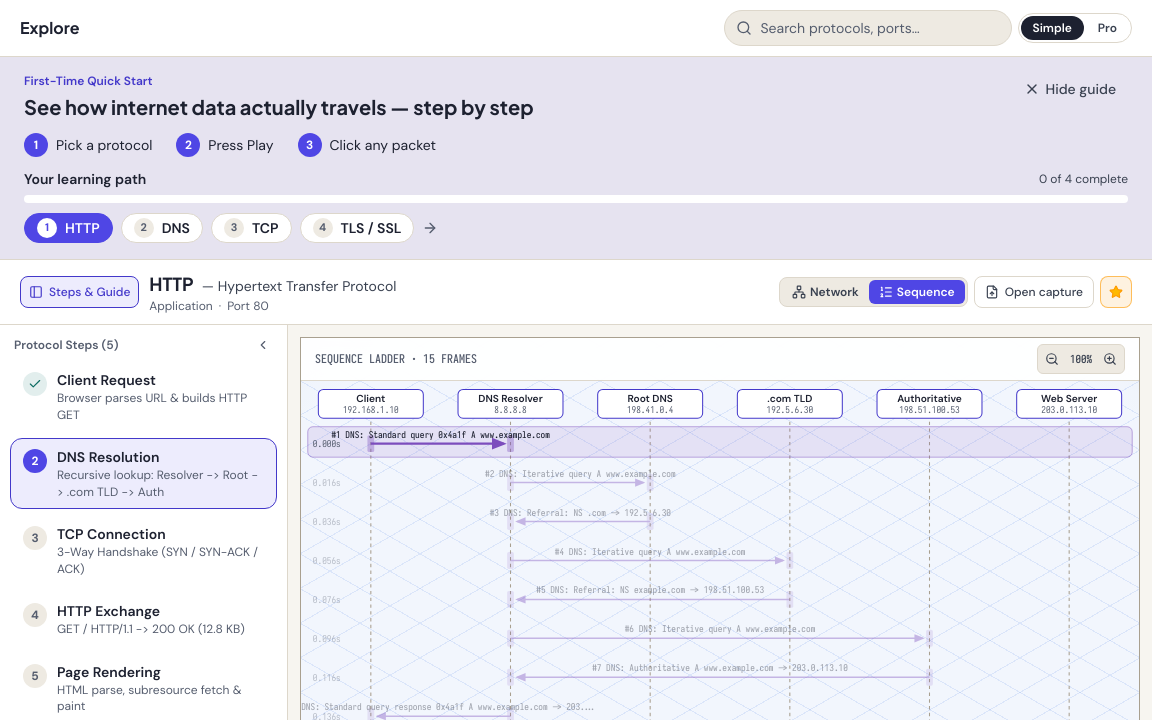
Test: UI Components Integration (SimCanvas, SimulatorWorkspace, TerminalEmulator, ExploreWorkspace, Header) › supports Quick-Start Welcome Guide, Simple/Pro mode progressive disclosure, theme toggle, and 6-language RTL switching
The image size is (1152, 720).
Later steps or results of the test are not shown.
Expected: the text "First-Time Quick Start" is shown, [24, 73, 153, 89]
Expected: the button "Compare" is not shown
Click the button "Pro": x=1107, y=28 [1086, 16, 1129, 40]
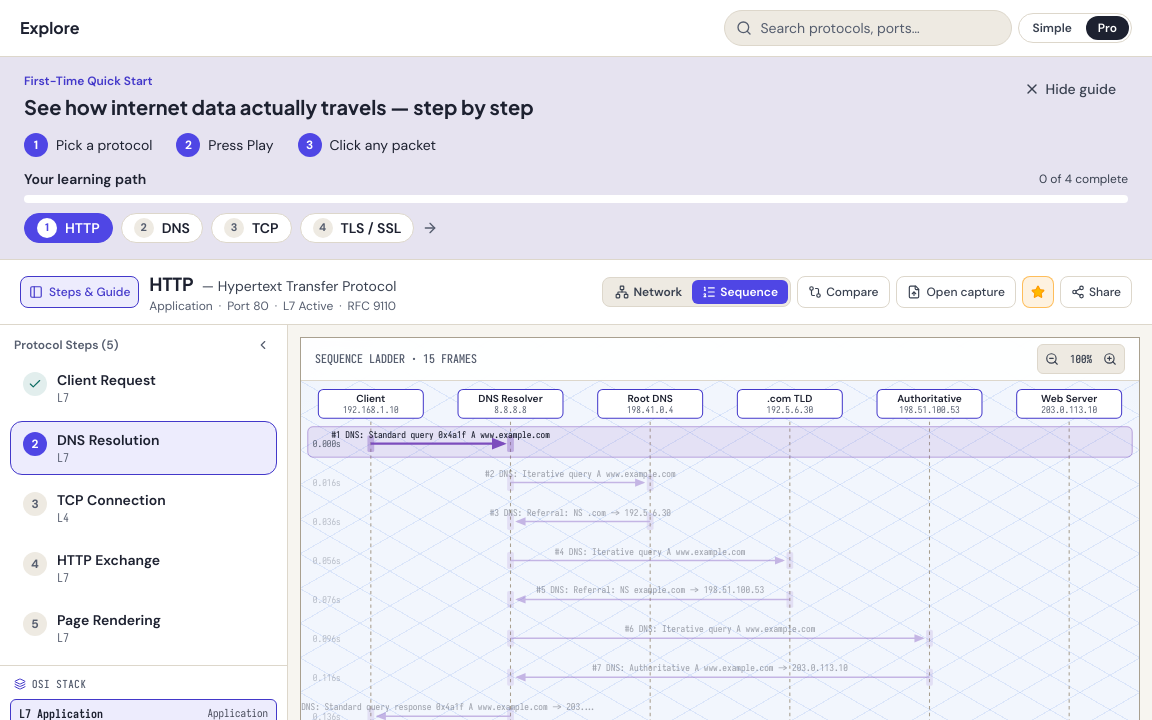
Click the button "Hide guide": x=1070, y=89 [1012, 73, 1128, 105]
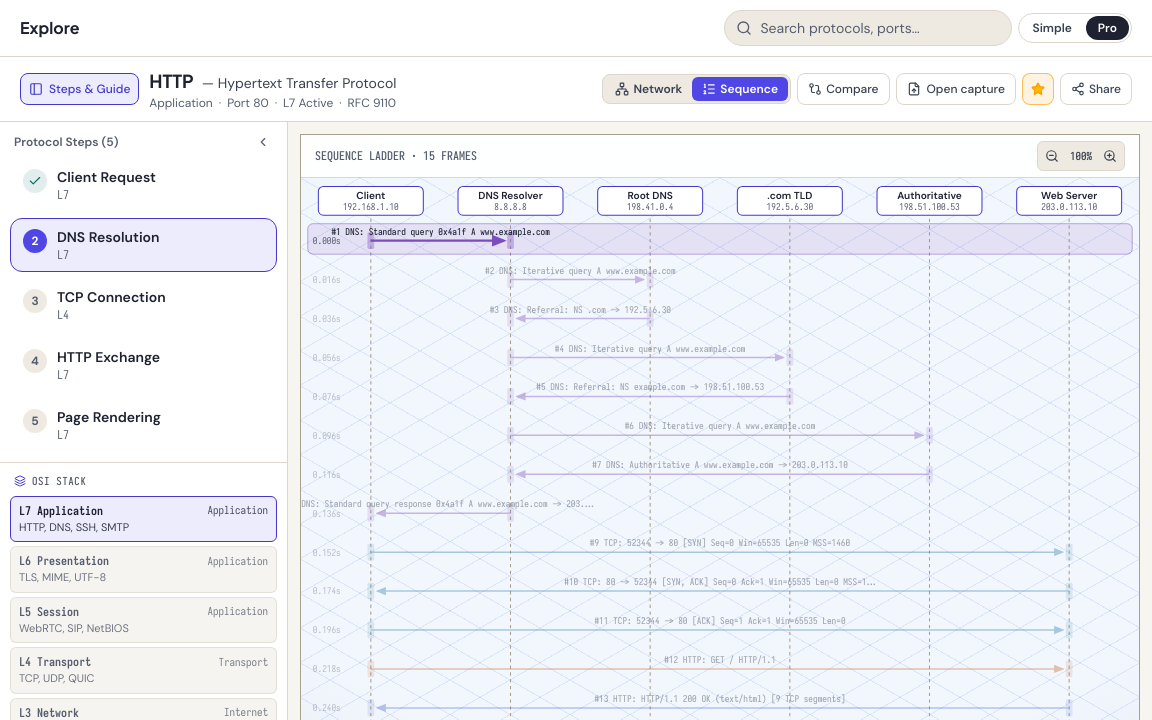
Expected: the text "First-Time Quick Start" is gone
